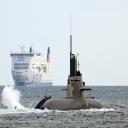submarine: (16, 14, 125, 112)
